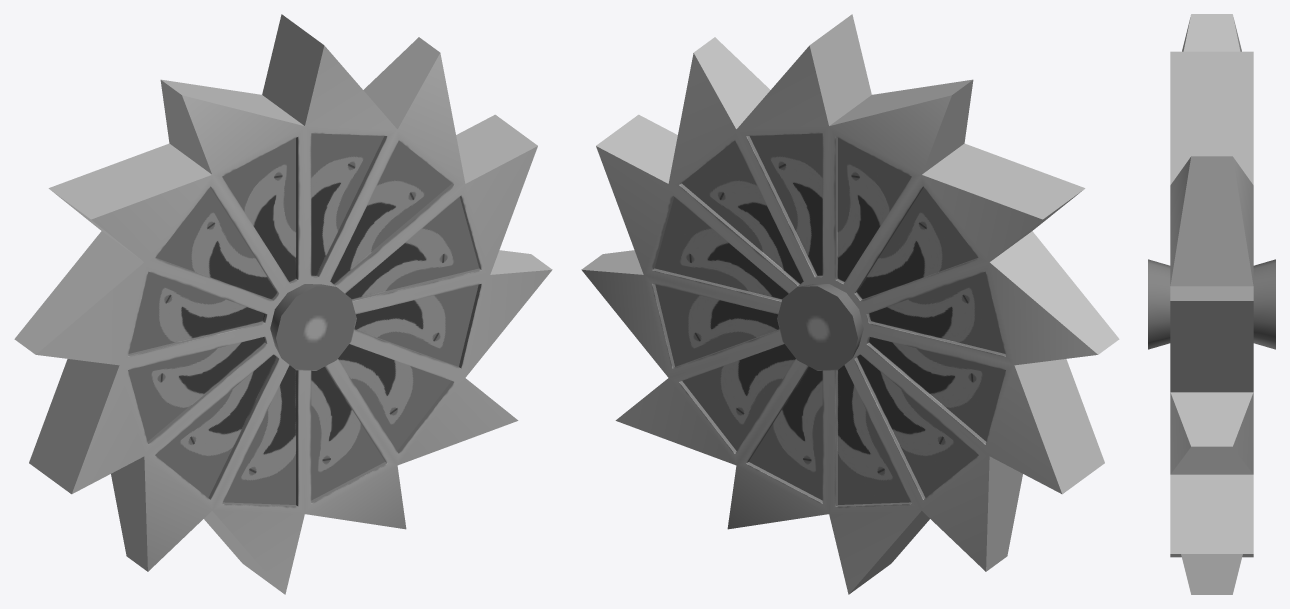
File: Sawblade.fbx
3 renders of one model, left to right at view 1: azimuth 30°, elevation 25°; view 2: azimuth 150°, elevation 25°; view 3: azimuth 270°, elevation 25°, orthographic. The views are drawn at different scales.
Visible parts, largest first — view 1: Cylinder.001; view 2: Cylinder.001; view 3: Cylinder.001.
Part boxes in pixels (bbox=[...]): Cylinder.001: bbox=[14, 14, 552, 594]; Cylinder.001: bbox=[581, 14, 1119, 594]; Cylinder.001: bbox=[1148, 14, 1275, 594].
Bounding box in the file's own units: 1.99 × 1.98 × 0.4385.
